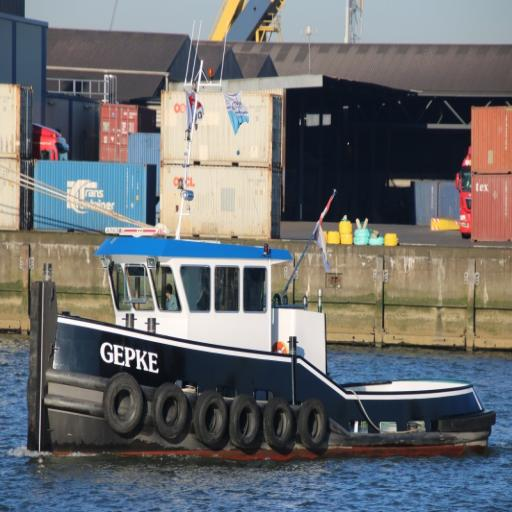tugboat: (18, 188, 500, 475)
